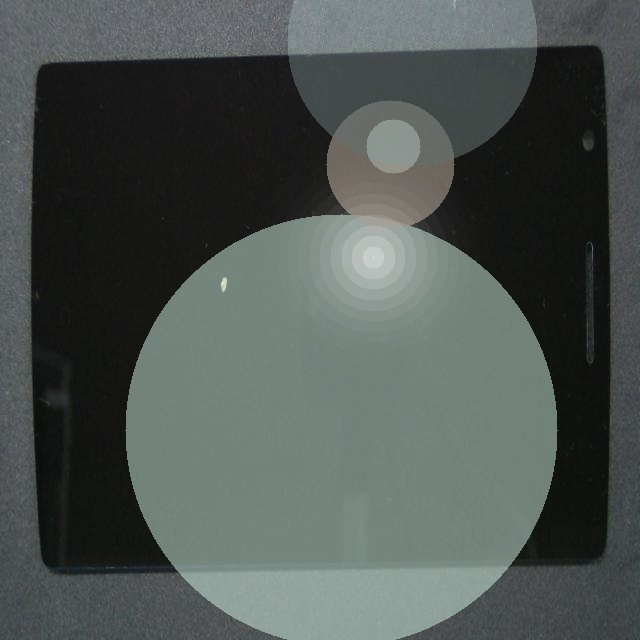stain: (141, 127, 346, 394)
